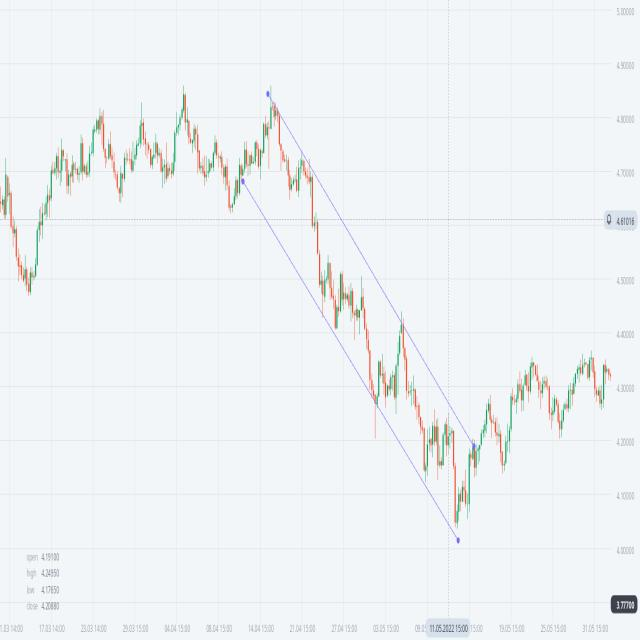Channel-down: (225, 78, 486, 556)
